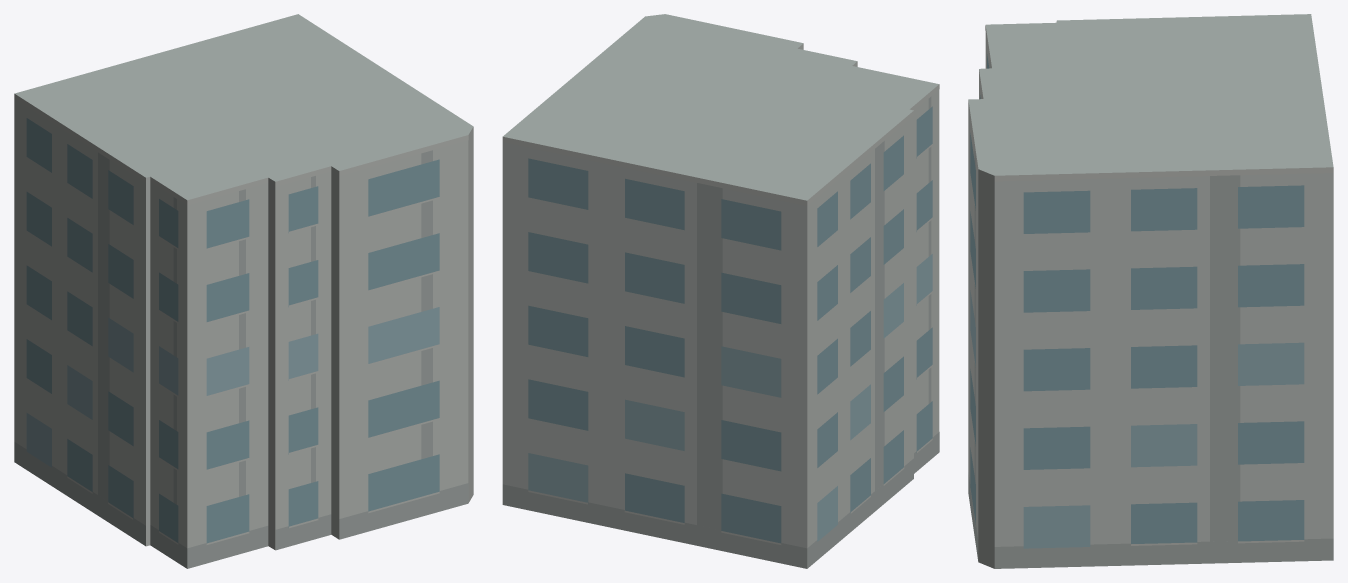
The model's file is survey-upis-32700871.glb.
3 views of the same model, side by side, from view 1: azimuth 30°, elevation 25°; view 2: azimuth 150°, elevation 25°; view 3: azimuth 270°, elevation 25° (orthographic). The views are drawn at different scales.
Parts seen in each view (by area): view 1: survey-upis-32700871.tmp; view 2: survey-upis-32700871.tmp; view 3: survey-upis-32700871.tmp.
Boxes of the visible parts, x1,y1,x2,y2 form: survey-upis-32700871.tmp: [14, 14, 473, 568]; survey-upis-32700871.tmp: [502, 14, 939, 568]; survey-upis-32700871.tmp: [968, 14, 1333, 568].
Size of the model in its own units: 15.01 by 17 by 14.32.
